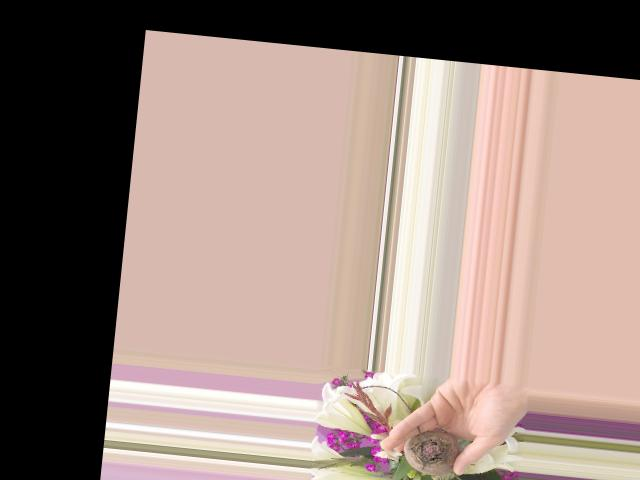beet: (400, 425, 461, 477)
